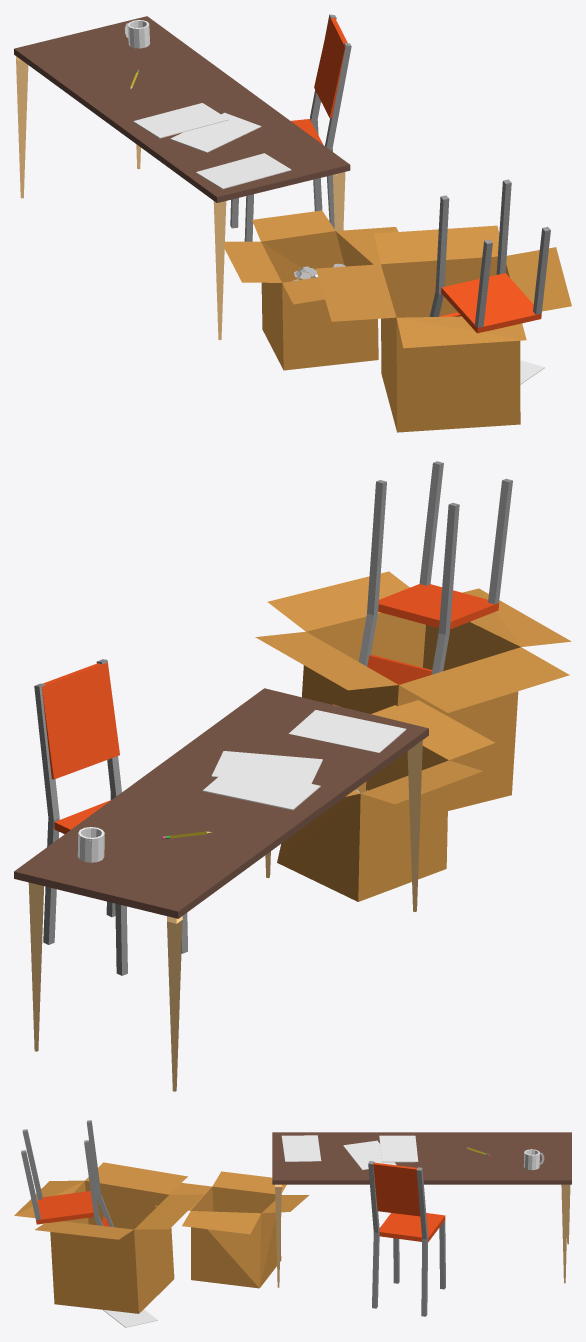
File: scene_mJVUwZELyR.glb
3 views of the same model, one above another, from view 1: azimuth 30°, elevation 25°; view 2: azimuth 150°, elevation 25°; view 3: azimuth 270°, elevation 25° (orthographic). The views are drawn at different scales.
Visible parts, largest first — view 1: Node; view 2: Node; view 3: Node.
Boxes of the visible parts, x1,y1,x2,y2 form: Node: (14, 14, 571, 432); Node: (14, 461, 571, 1091); Node: (14, 1120, 571, 1327).
Bounding box in the file's own units: 0.2477 × 0.2193 × 0.6632.
